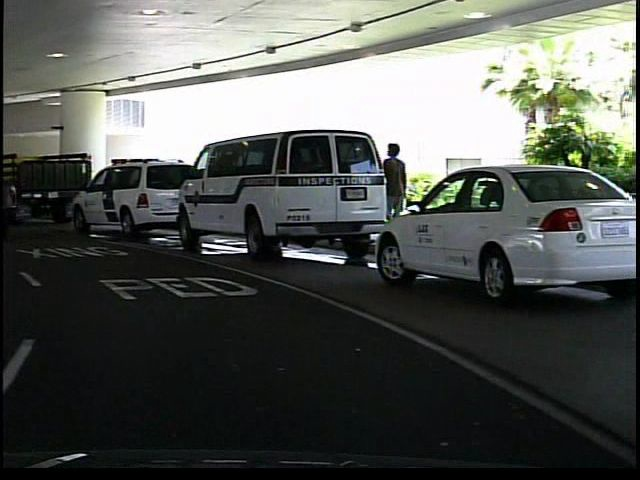person: (373, 138, 410, 248)
